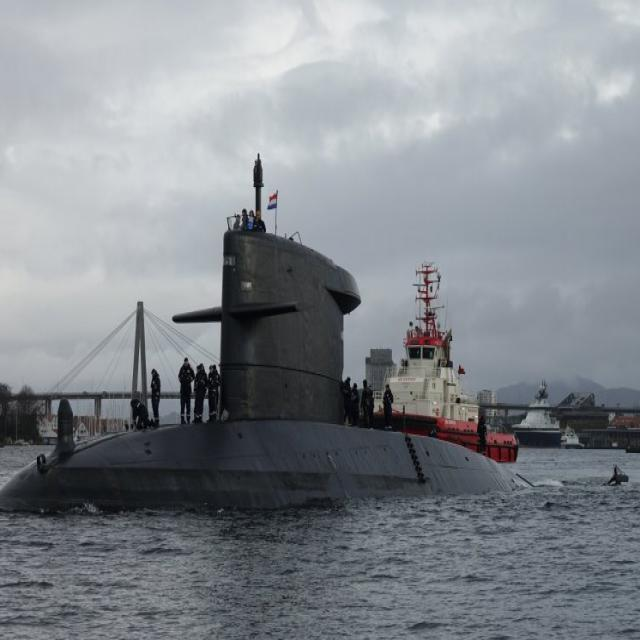submarine: (1, 146, 553, 511)
